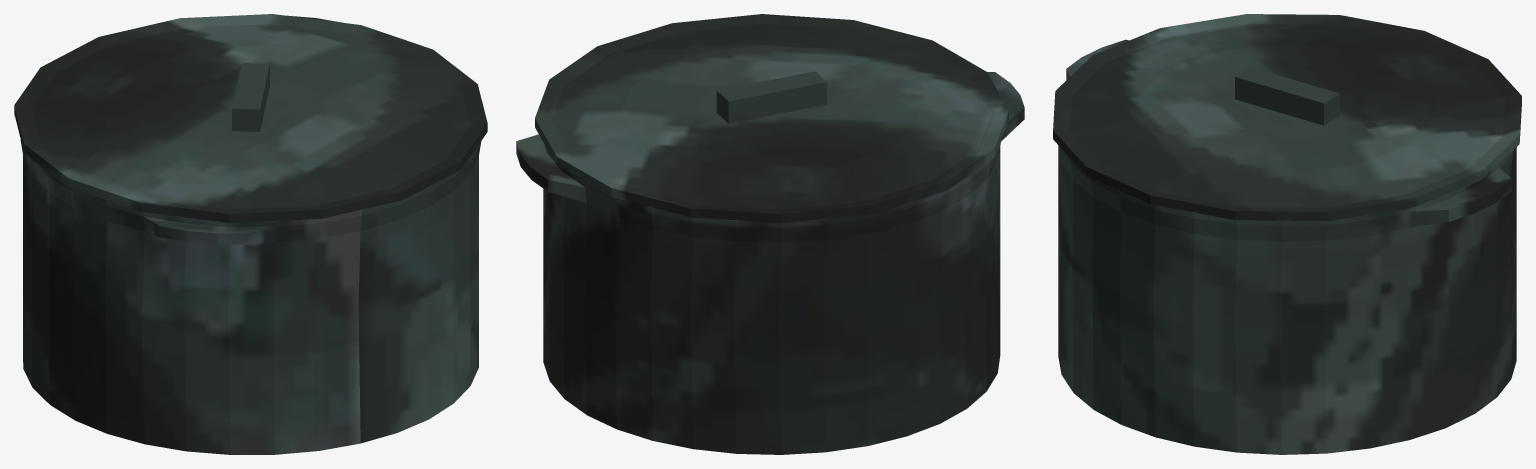
File: SM_POT1.fbx
3 renders of one model, left to right at view 1: azimuth 30°, elevation 25°; view 2: azimuth 150°, elevation 25°; view 3: azimuth 270°, elevation 25°, orthographic.
Visible parts, largest first — view 1: SM_pot.001; view 2: SM_pot.001; view 3: SM_pot.001.
Part boxes in pixels (left/top/right/bottom): SM_pot.001: left=14, top=14, right=487, bottom=454; SM_pot.001: left=516, top=14, right=1024, bottom=454; SM_pot.001: left=1053, top=14, right=1521, bottom=454.
Size of the model in its own units: 38.4 by 24.65 by 38.4.
